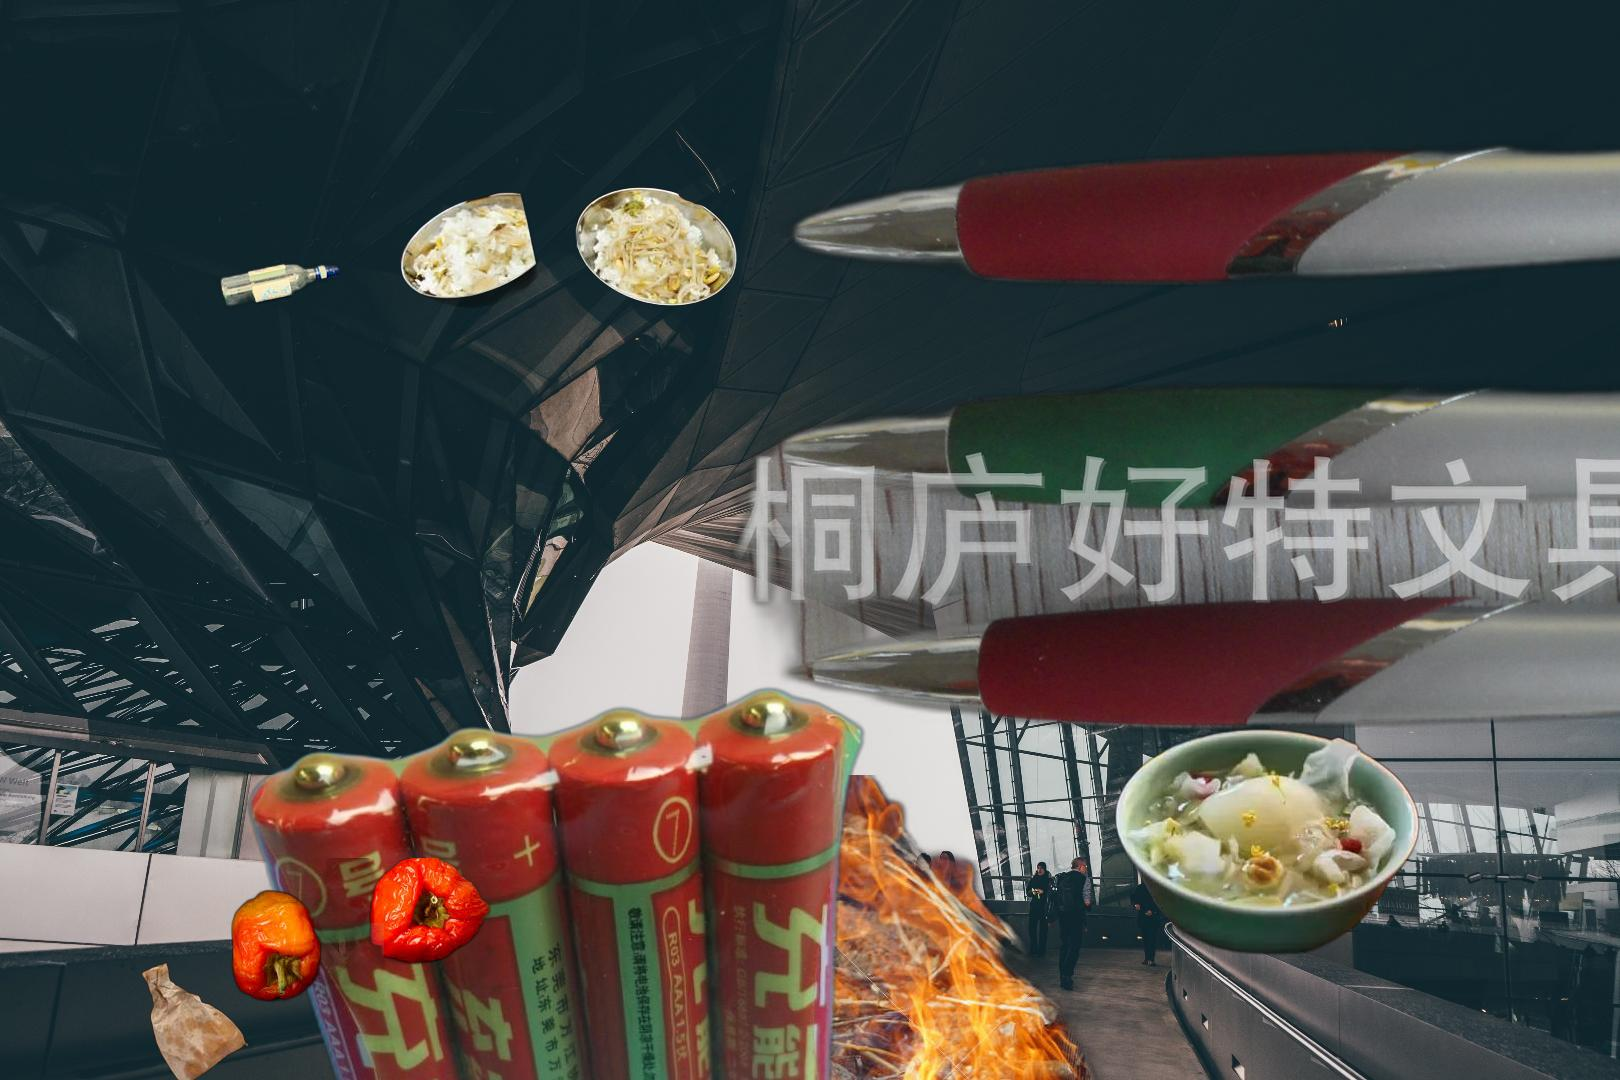battery: (240, 682, 871, 1080)
biological: (399, 184, 768, 385), (1113, 726, 1424, 957), (219, 858, 491, 1041)
glass: (215, 257, 345, 312)
paper-bag: (139, 959, 344, 1080)
penholder: (720, 87, 1620, 740)
trashbox-cardboard: (306, 775, 1468, 1080)
